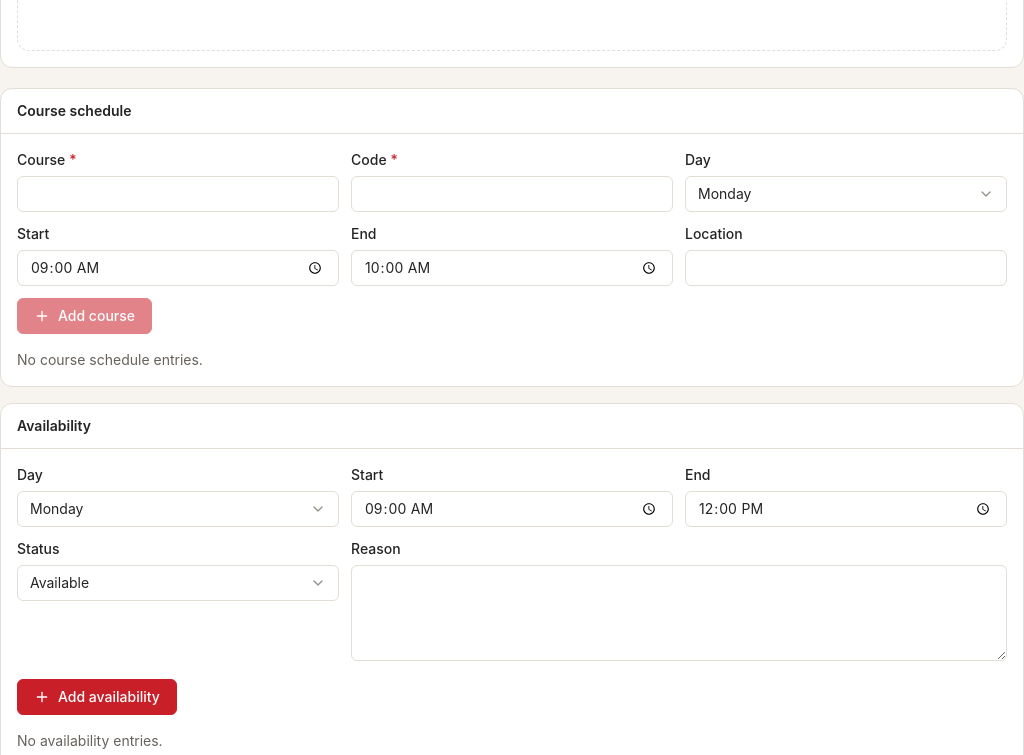
SchedulePage availability workflow › shows local validation for invalid availability time ranges
The image size is (1024, 755).
(page scrolled)
Replace the text in the 2nd time field labelled "End" with "08:00": point(846, 509) [685,491,1007,527]
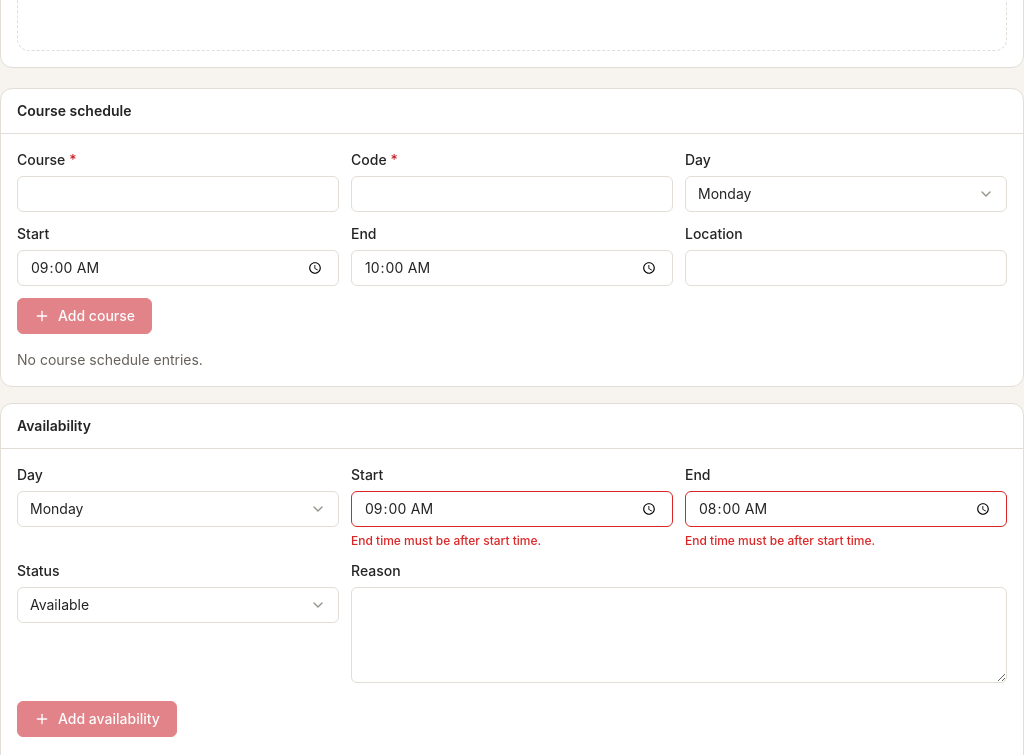
expect the text "End time must be after start time." is shown 2 times: met, box [351,533,541,548]; [685,533,875,548]
expect the button "Add availability" is disabled: met, box [17,701,177,737]
